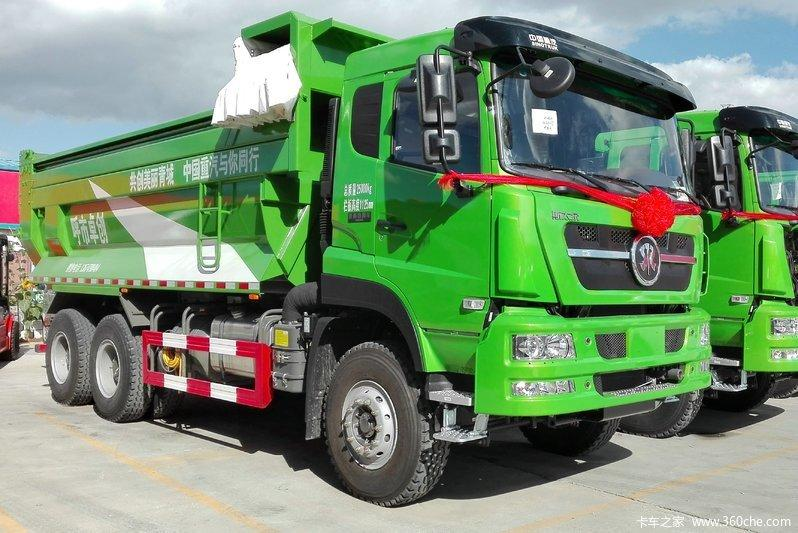truck: (8, 7, 731, 510)
